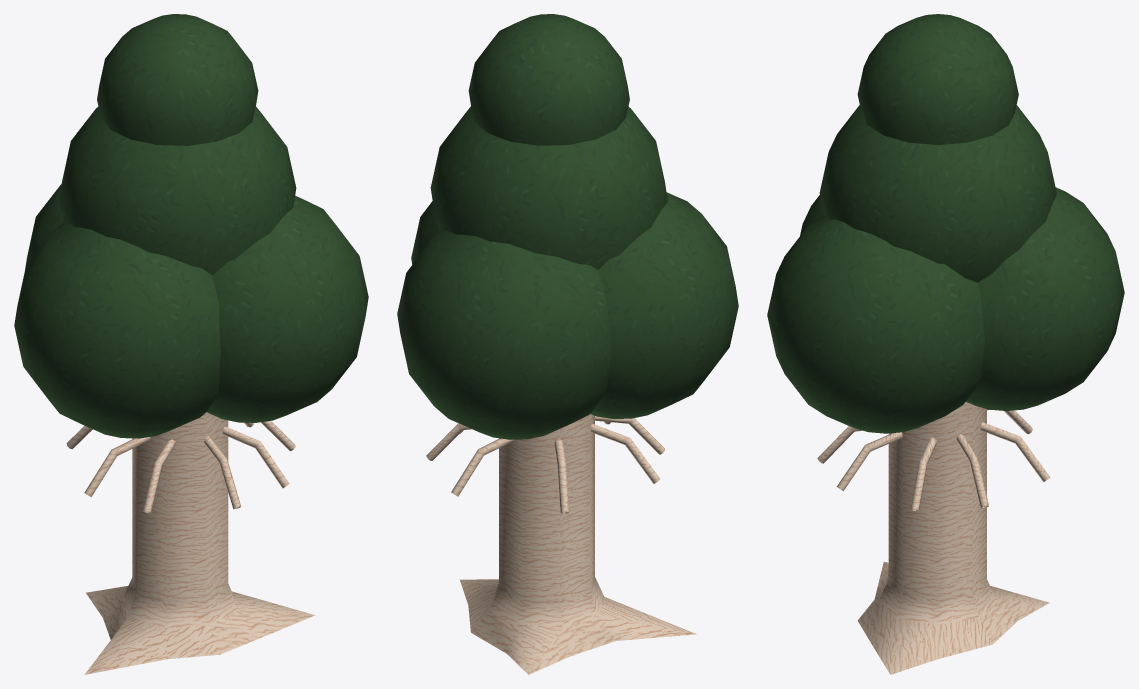
The model's file is toonTree.fbx.
The picture shows the model from 3 angles, left to right: view 1: azimuth 30°, elevation 25°; view 2: azimuth 150°, elevation 25°; view 3: azimuth 270°, elevation 25°; orthographic projection.
Parts seen in each view (by area): view 1: leafs, stump, Line005, Line010, Line006, Line009; view 2: leafs, stump, Line010, Line007, Line003, Line006; view 3: leafs, stump, Line007, Line005, Line004, Line008.
Part boxes in pixels (x1,y1,x2,y2): leafs: [14, 14, 368, 438]; stump: [84, 412, 314, 674]; Line005: [222, 426, 289, 488]; Line010: [84, 437, 150, 497]; Line006: [143, 439, 175, 513]; Line009: [204, 436, 241, 509]; leafs: [397, 14, 738, 439]; stump: [460, 414, 696, 674]; Line010: [591, 423, 660, 483]; Line007: [451, 438, 515, 496]; Line003: [554, 439, 568, 513]; Line006: [595, 416, 664, 454]; leafs: [767, 14, 1124, 433]; stump: [857, 402, 1049, 674]; Line007: [980, 422, 1050, 481]; Line005: [836, 432, 902, 491]; Line004: [956, 434, 988, 508]; Line008: [910, 437, 936, 511].
Size of the model in its own units: 723 by 1341 by 726.
